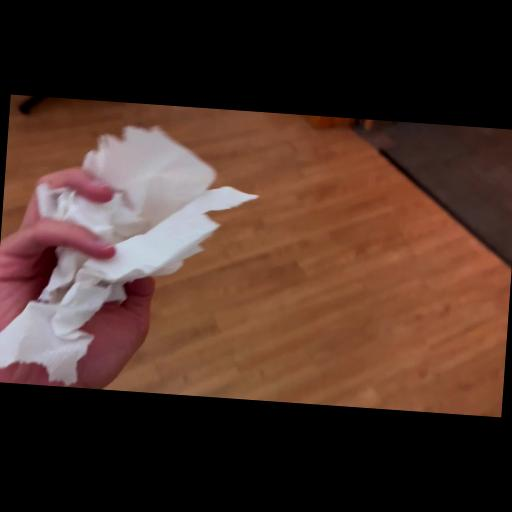napkin: (0, 112, 263, 398)
